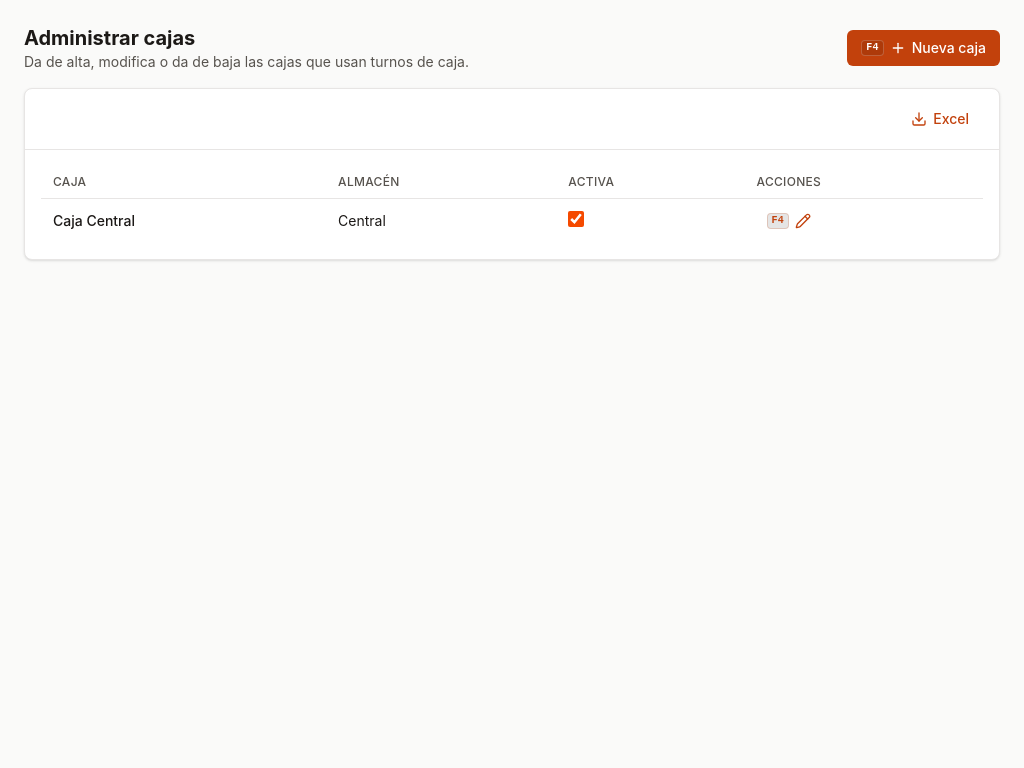
CajasAdminPage (smoke) › 'Editar' abre el diálogo precargado con el nombre
Expected: the text "Caja Central" is shown, [53,212,135,229]
What coordinates should you click on to do the following:
click the button named "Editar"
I would click on:
 (789, 221)
Its box is [756,207,821,235].
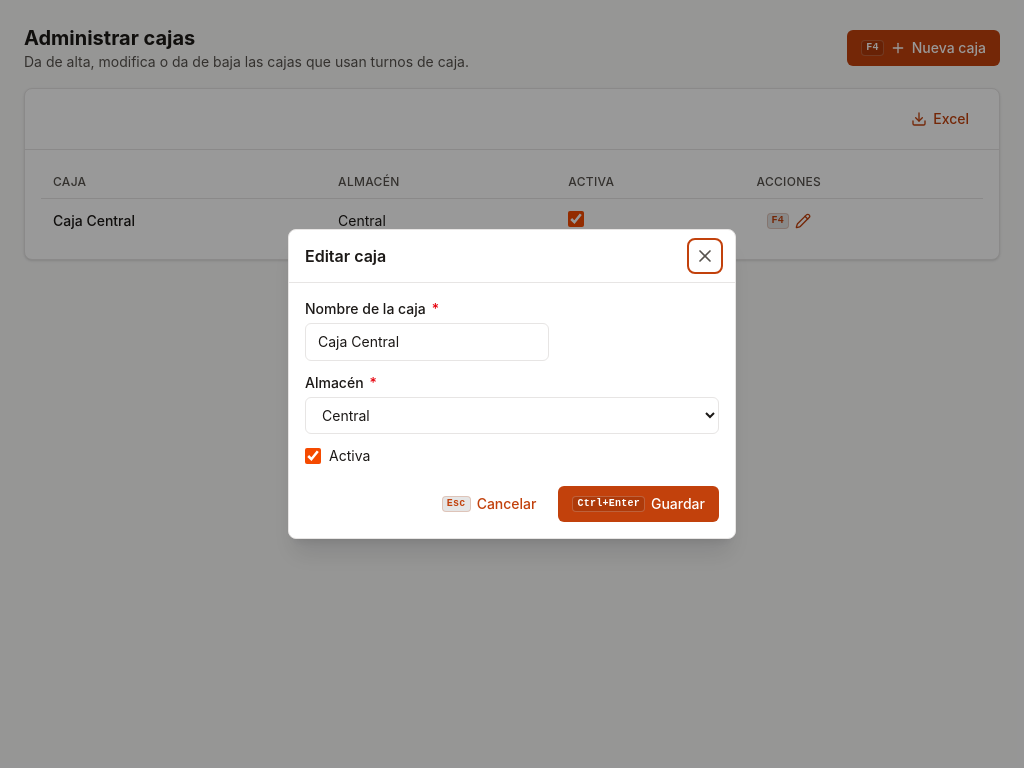
Expected: the heading "Editar caja" is shown, [305,244,386,268]
Expected: the field labelled "Nombre de la caja *" holds "Caja Central", [305,323,549,361]
